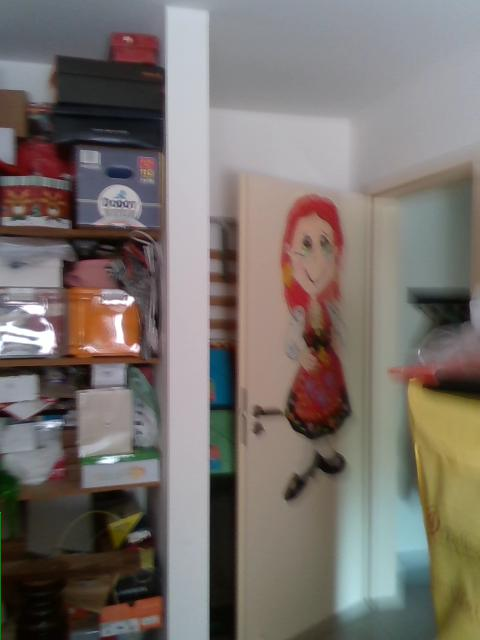door: (236, 171, 365, 639)
